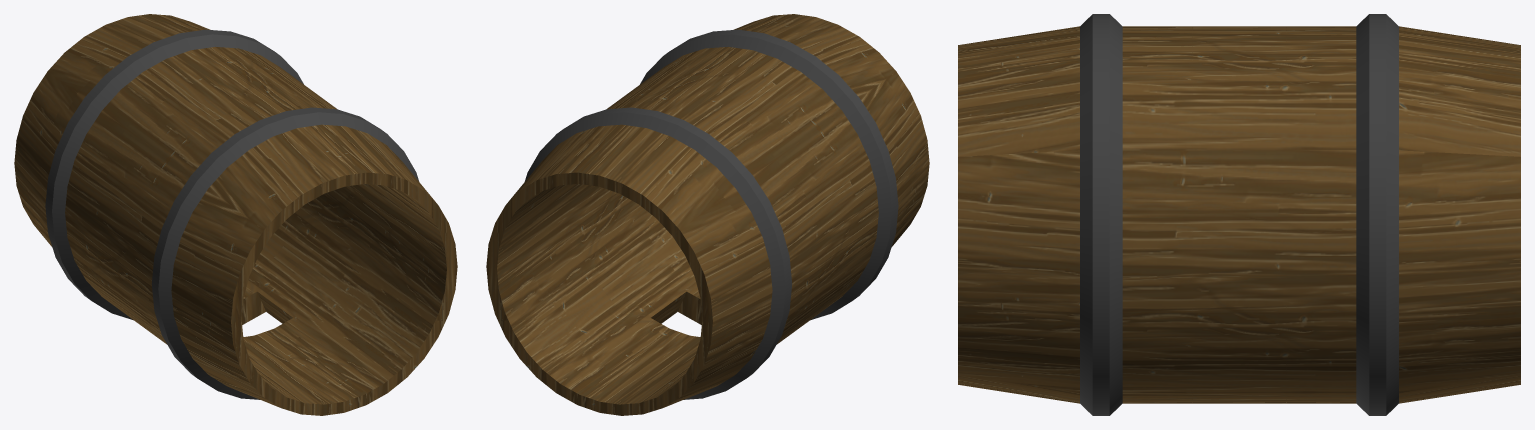
The model's file is Rolling Barrel.glb.
The picture shows the model from 3 angles, left to right: view 1: azimuth 30°, elevation 25°; view 2: azimuth 150°, elevation 25°; view 3: azimuth 270°, elevation 25°; orthographic projection. The views are drawn at different scales.
Parts seen in each view (by area): view 1: Rolling Barrel; view 2: Rolling Barrel; view 3: Rolling Barrel.
Part boxes in pixels (<box>): Rolling Barrel: <box>14,14,457,415</box>; Rolling Barrel: <box>486,14,929,415</box>; Rolling Barrel: <box>958,14,1520,415</box>.
Size of what is drawn, in the model's own units: 2.13 by 2.13 by 2.98.
Materials: 2 (2 with a texture image).
